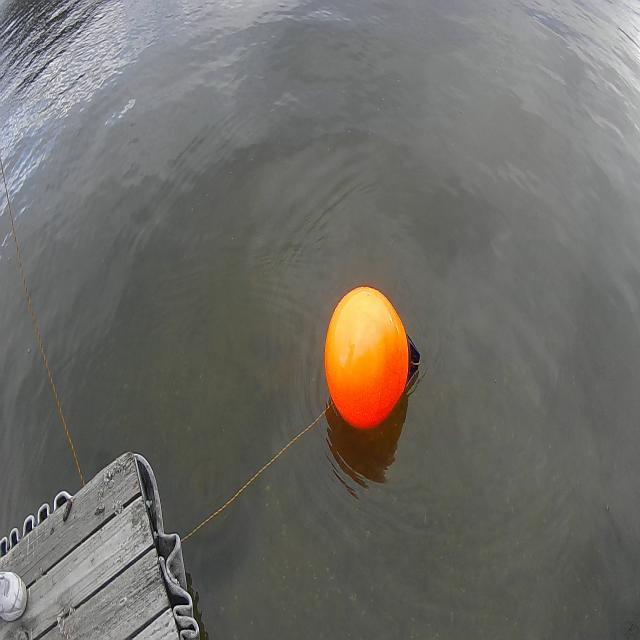Buoy: (322, 282, 424, 434)
